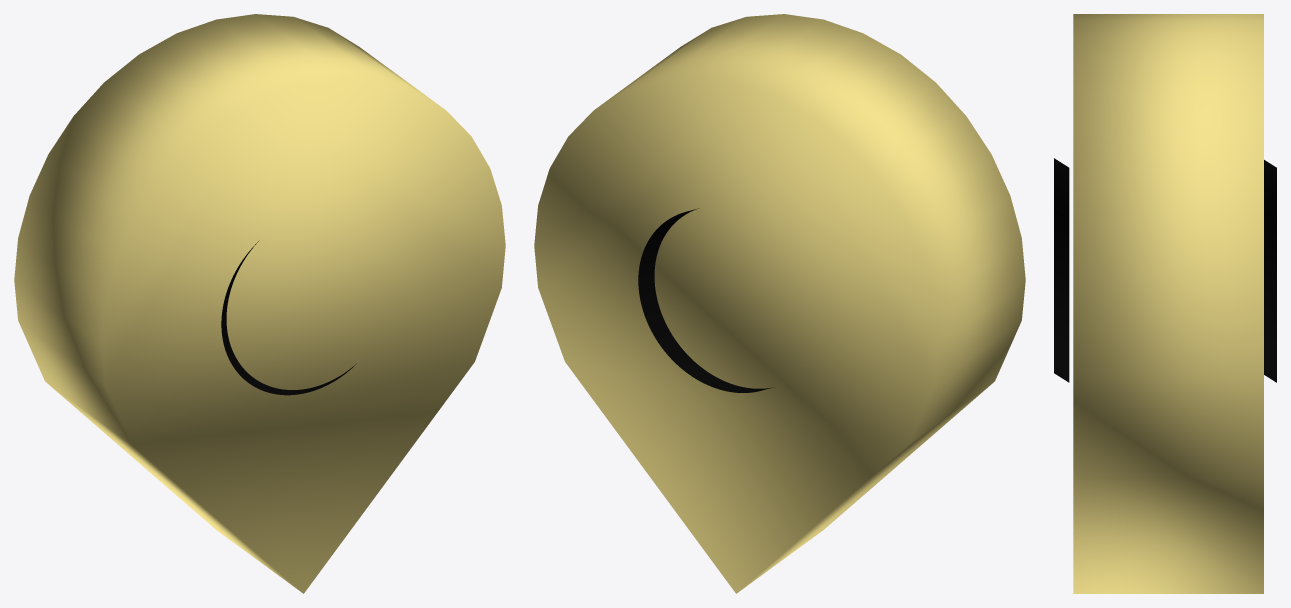
File: Waypoint 1.fbx
The picture shows the model from 3 angles, left to right: view 1: azimuth 30°, elevation 25°; view 2: azimuth 150°, elevation 25°; view 3: azimuth 270°, elevation 25°; orthographic projection. The views are drawn at different scales.
Parts seen in each view (by area): view 1: Circle, Circle.001; view 2: Circle, Circle.002; view 3: Circle, Circle.001, Circle.002.
Boxes of the visible parts, x1,y1,x2,y2 form: Circle: (14, 14, 505, 593); Circle.001: (221, 240, 356, 395); Circle: (534, 14, 1025, 593); Circle.002: (638, 208, 773, 392); Circle: (1073, 14, 1263, 593); Circle.001: (1054, 158, 1069, 382); Circle.002: (1264, 160, 1276, 382).
Bounding box in the file's own units: 200 × 241 × 87.62.
